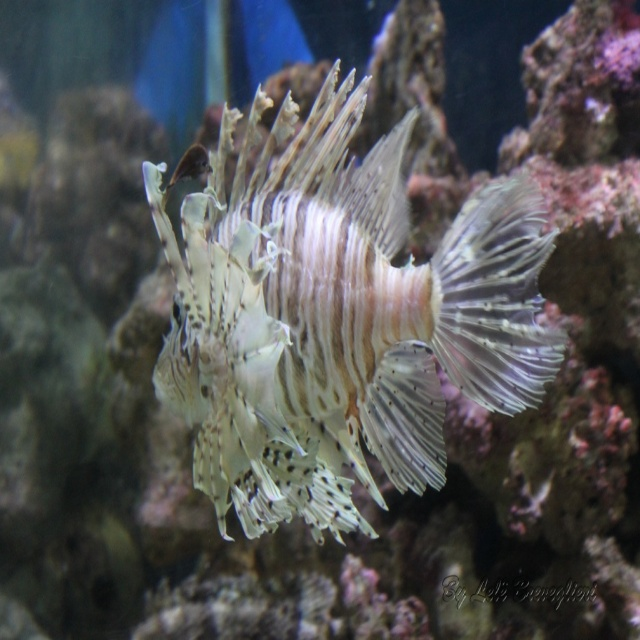Fish: (142, 58, 570, 547)
